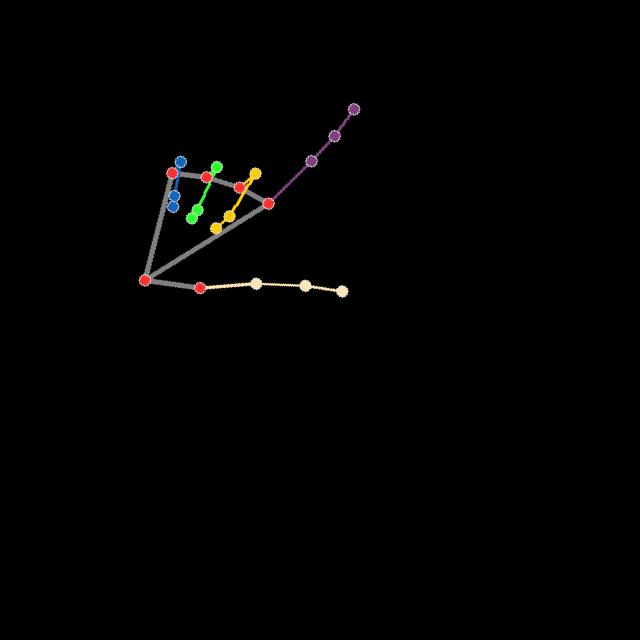gun: (136, 95, 361, 298)
